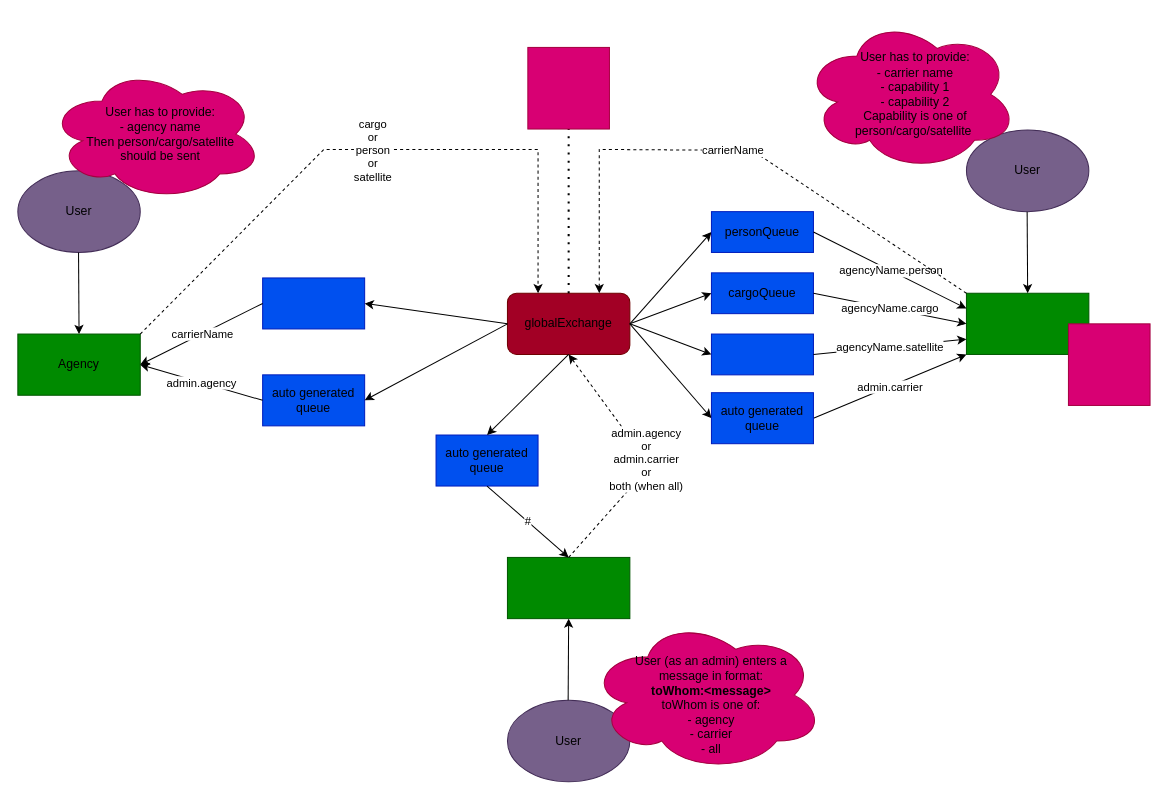
This 1168x800 diagram has some shape labels left out. The shapes that lost their labels are listed below. From the top down, each one's centre as x and y in pixels, then its label:
the point at 568,87: Exchange type is TOPIC
the point at 313,303: ackQueue + carrierName
the point at 1027,323: Carrier
the point at 761,354: satelliteQueue
the point at 1108,364: Carrier will only listen to 2 out of 3 capabilities
the point at 568,587: Admin
